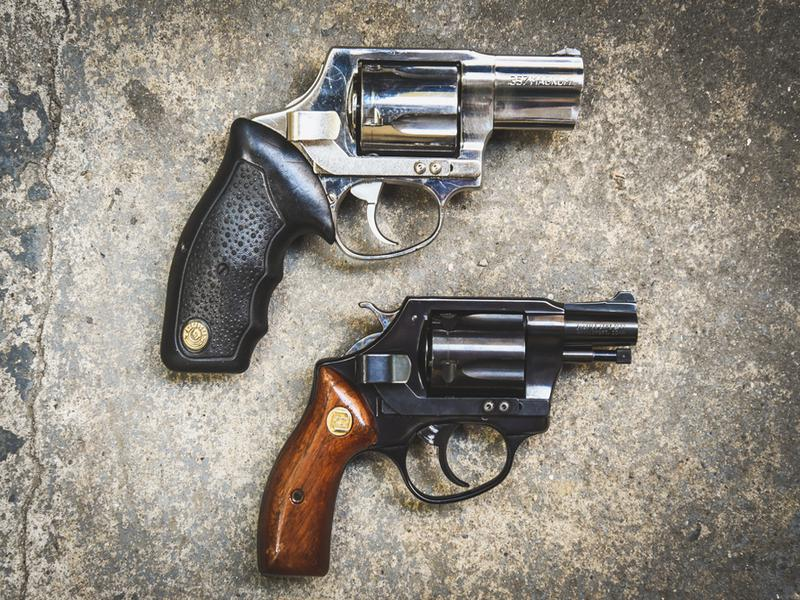Revolver: (197, 30, 601, 284), (298, 289, 657, 513)
